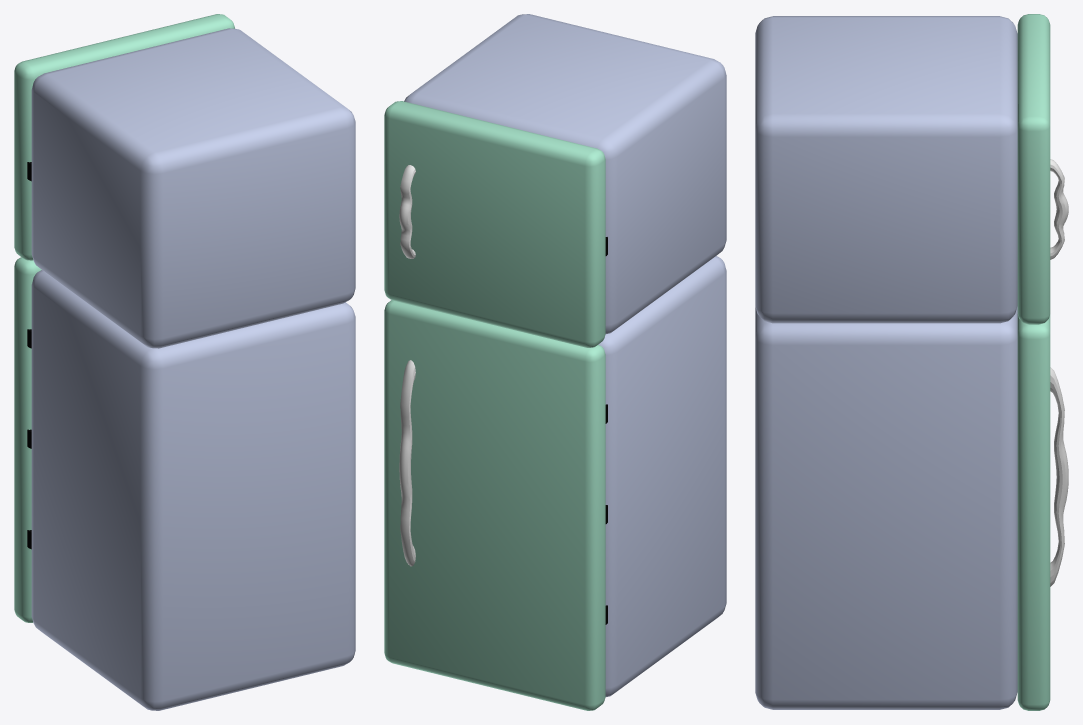
The model's file is Fridge.fbx.
The picture shows the model from 3 angles, left to right: view 1: azimuth 30°, elevation 25°; view 2: azimuth 150°, elevation 25°; view 3: azimuth 270°, elevation 25°; orthographic projection. The views are drawn at different scales.
Parts seen in each view (by area): view 1: Cube.001, Cube.002, Cube.003, Cube.004; view 2: Cube.004, Cube.002, Cube.001, Cube.003, Torus.001, Torus; view 3: Cube.001, Cube.002, Cube.004, Cube.003, Torus.001, Torus.
Boxes of the visible parts, left/top/right/bottom form: Cube.001: left=31, top=270, right=355, bottom=710; Cube.002: left=31, top=28, right=355, bottom=348; Cube.003: left=14, top=14, right=234, bottom=260; Cube.004: left=14, top=257, right=41, bottom=622; Cube.004: left=384, top=300, right=605, bottom=710; Cube.002: left=404, top=14, right=726, bottom=333; Cube.001: left=598, top=256, right=726, bottom=696; Cube.003: left=384, top=101, right=605, bottom=347; Torus.001: left=399, top=360, right=415, bottom=566; Torus: left=399, top=165, right=415, bottom=258; Cube.001: left=755, top=306, right=1017, bottom=709; Cube.002: left=755, top=16, right=1017, bottom=323; Cube.004: left=1017, top=314, right=1050, bottom=710; Cube.003: left=1017, top=14, right=1050, bottom=324; Torus.001: left=1050, top=367, right=1068, bottom=586; Torus: left=1050, top=159, right=1068, bottom=259.
Size of the model in its own units: 800 by 2000 by 956.
